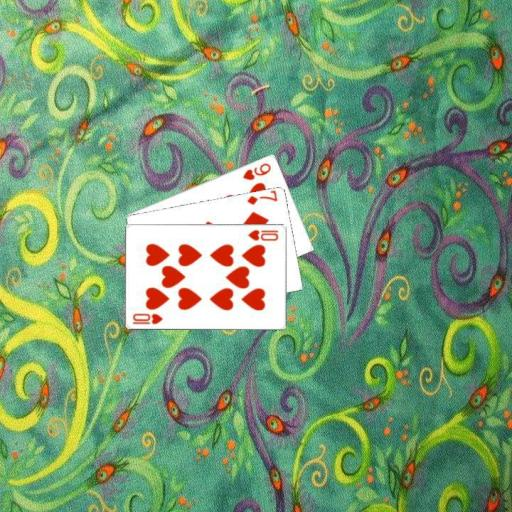10H: (246, 226, 280, 242), (130, 310, 164, 326)
7D: (244, 189, 279, 207)
9H: (240, 160, 272, 182)
